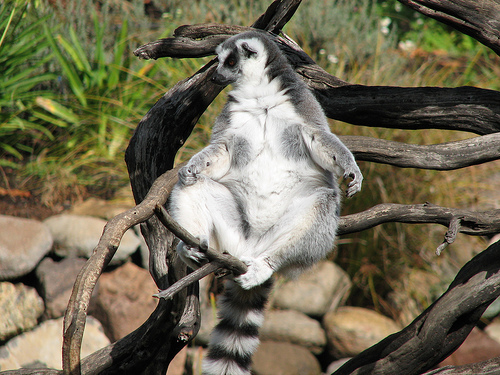cat: (169, 34, 363, 374)
